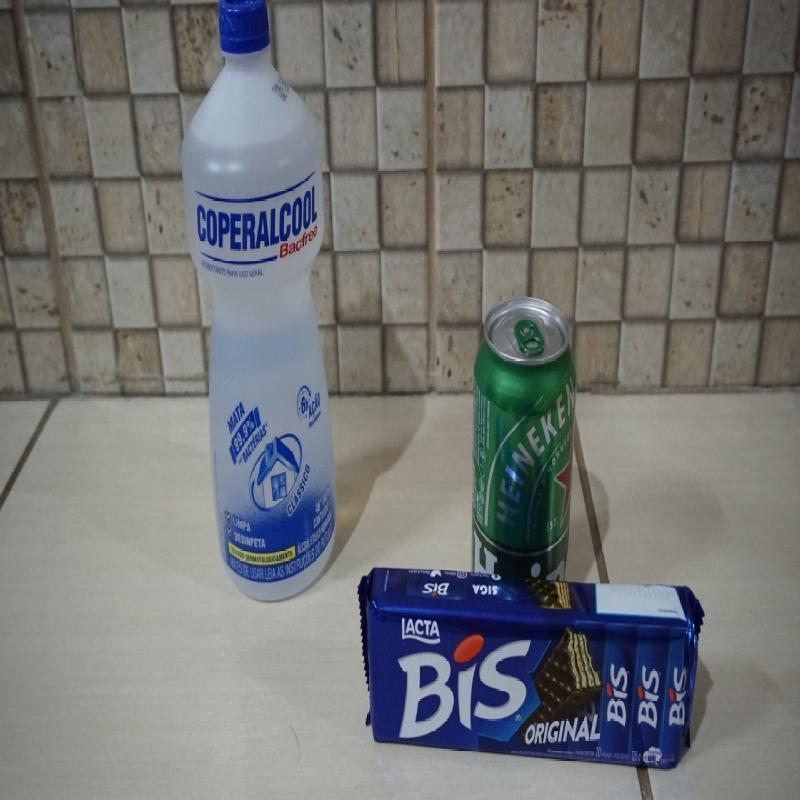Chocolate Milk: (220, 197, 322, 426), (468, 316, 570, 545)
